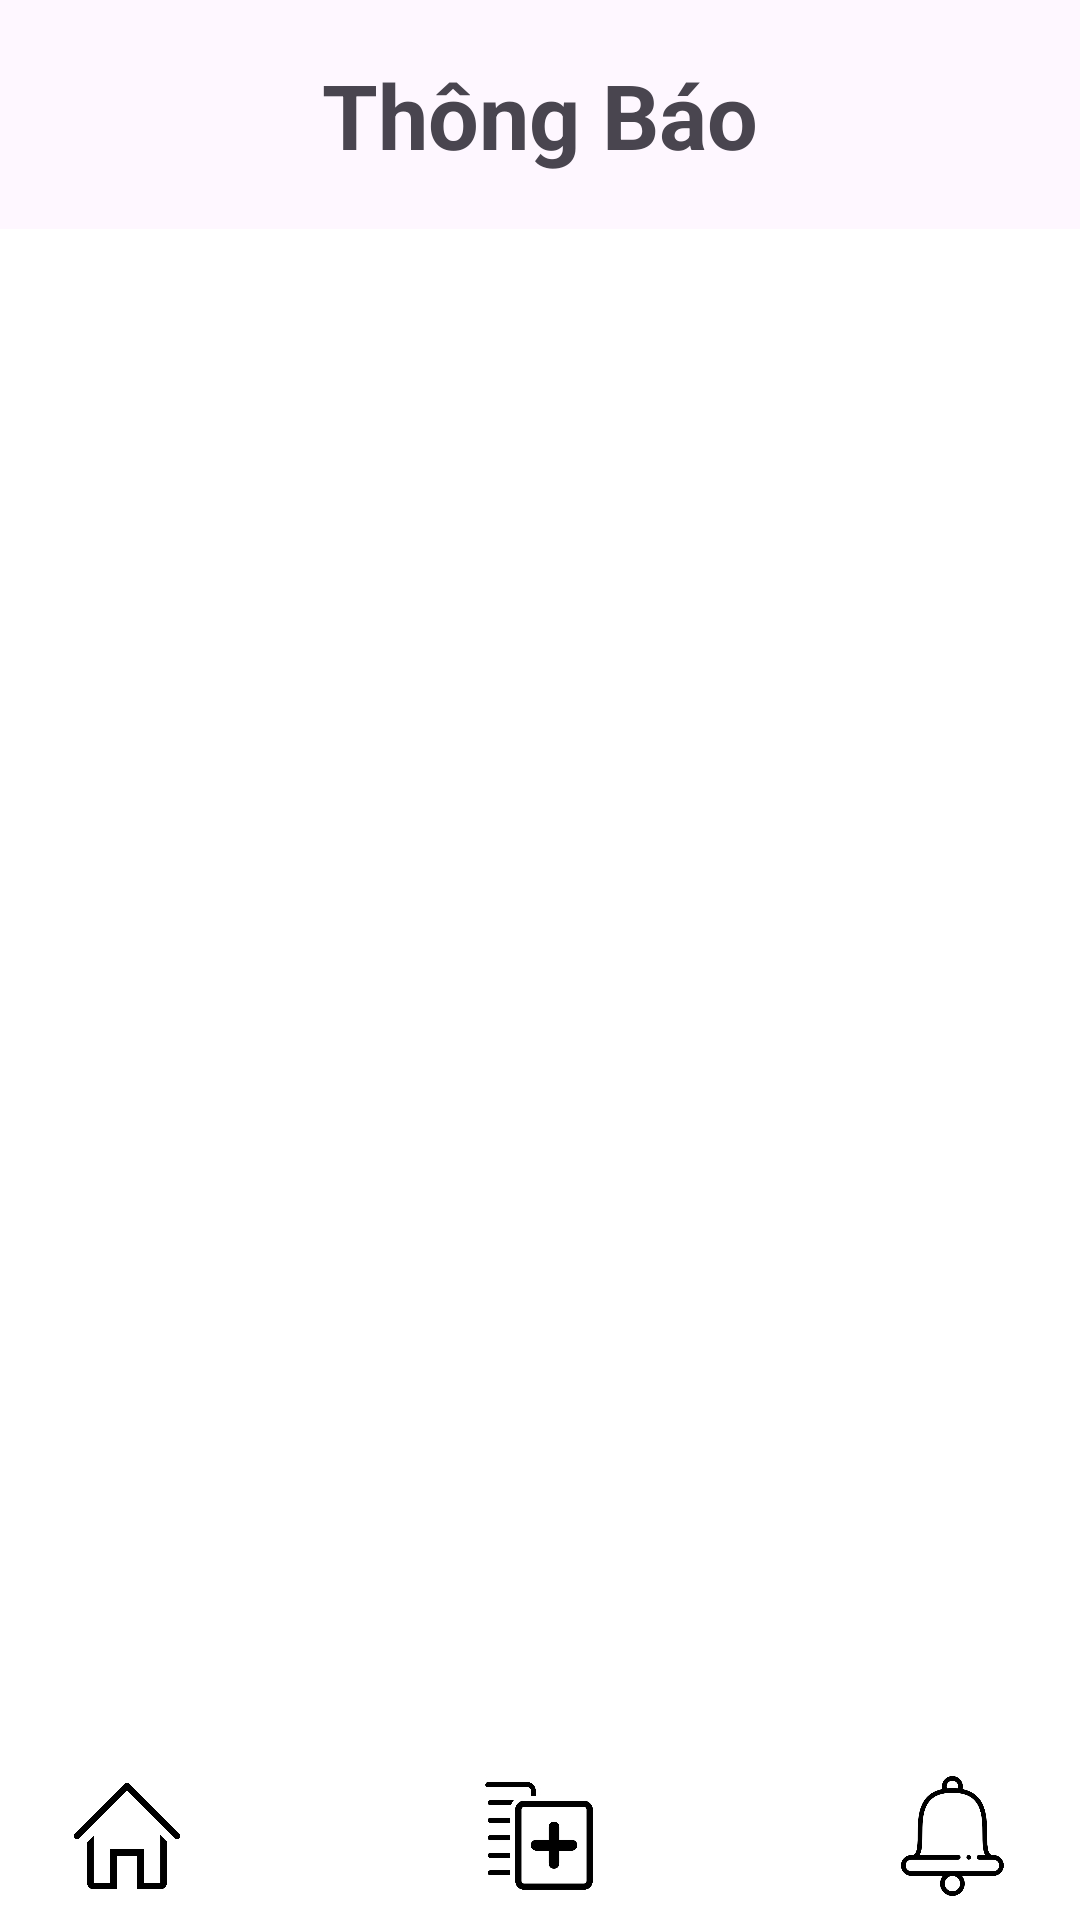

Where icons sit on this 1080x1920 app screen, as (x1, y1, x2, y2):
Add Post: (485, 1782, 593, 1890)
Home: (74, 1783, 180, 1889)
